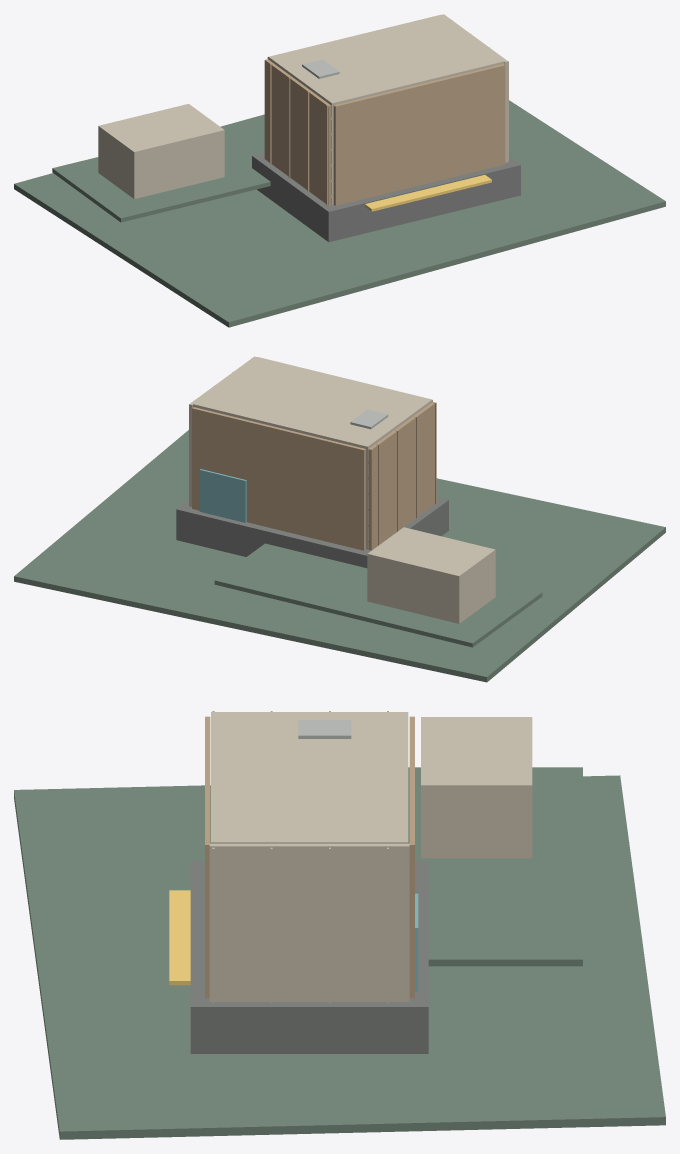
3 renders of one model, top to bottom at view 1: azimuth 30°, elevation 25°; view 2: azimuth 150°, elevation 25°; view 3: azimuth 270°, elevation 25°, orthographic. The views are drawn at different scales.
Visible parts, largest first — view 1: 01_site_context / sloped monastery hill, 04_envelope / timber south facade layer, 02_mass_model / seven-storey care volume at slope edge, 07_context / existing monastery reference mass, 02_mass_model / partly embedded base floors, 01_site_context / upper monastery plateau, 04_envelope / timber west facade layer, 06_circulation / public entry threshold, 04_envelope / mineral east facade plane; view 2: 01_site_context / sloped monastery hill, 04_envelope / timber north facade layer, 02_mass_model / seven-storey care volume at slope edge, 01_site_context / upper monastery plateau, 07_context / existing monastery reference mass, 04_envelope / timber west facade layer, 02_mass_model / partly embedded base floors, 05_interior / double-height chapel and foyer void, 04_envelope / mineral east facade plane; view 3: 01_site_context / sloped monastery hill, 04_envelope / mineral east facade plane, 02_mass_model / seven-storey care volume at slope edge, 01_site_context / upper monastery plateau, 02_mass_model / partly embedded base floors, 07_context / existing monastery reference mass, 06_circulation / public entry threshold, 04_envelope / timber north facade layer, 04_envelope / timber south facade layer, 03_structure / bracing service core.
Part boxes in pixels (<box>): 01_site_context / sloped monastery hill: <box>14,100,665,327</box>; 04_envelope / timber south facade layer: <box>333,64,505,205</box>; 02_mass_model / seven-storey care volume at slope edge: <box>268,14,504,204</box>; 07_context / existing monastery reference mass: <box>98,104,224,198</box>; 02_mass_model / partly embedded base floors: <box>252,153,520,241</box>; 01_site_context / upper monastery plateau: <box>52,116,270,222</box>; 04_envelope / timber west facade layer: <box>264,59,331,205</box>; 06_circulation / public entry threshold: <box>365,175,491,211</box>; 04_envelope / mineral east facade plane: <box>442,14,508,162</box>; 01_site_context / sloped monastery hill: <box>14,430,665,682</box>; 04_envelope / timber north facade layer: <box>192,407,365,550</box>; 02_mass_model / seven-storey care volume at slope edge: <box>193,357,432,549</box>; 01_site_context / upper monastery plateau: <box>214,543,542,647</box>; 07_context / existing monastery reference mass: <box>367,527,495,623</box>; 04_envelope / timber west facade layer: <box>368,402,434,550</box>; 02_mass_model / partly embedded base floors: <box>176,497,448,568</box>; 05_interior / double-height chapel and foyer void: <box>199,469,246,522</box>; 04_envelope / mineral east facade plane: <box>189,356,256,506</box>; 01_site_context / sloped monastery hill: <box>14,775,665,1139</box>; 04_envelope / mineral east facade plane: <box>209,843,409,1001</box>; 02_mass_model / seven-storey care volume at slope edge: <box>211,712,408,843</box>; 01_site_context / upper monastery plateau: <box>408,767,582,966</box>; 02_mass_model / partly embedded base floors: <box>190,861,428,1053</box>; 07_context / existing monastery reference mass: <box>421,717,532,858</box>; 06_circulation / public entry threshold: <box>169,890,190,985</box>; 04_envelope / timber north facade layer: <box>409,716,414,998</box>; 04_envelope / timber south facade layer: <box>205,716,210,998</box>; 03_structure / bracing service core: <box>298,720,351,738</box>.
Size of the model in its own units: 33.31 by 9.41 by 25.77.
